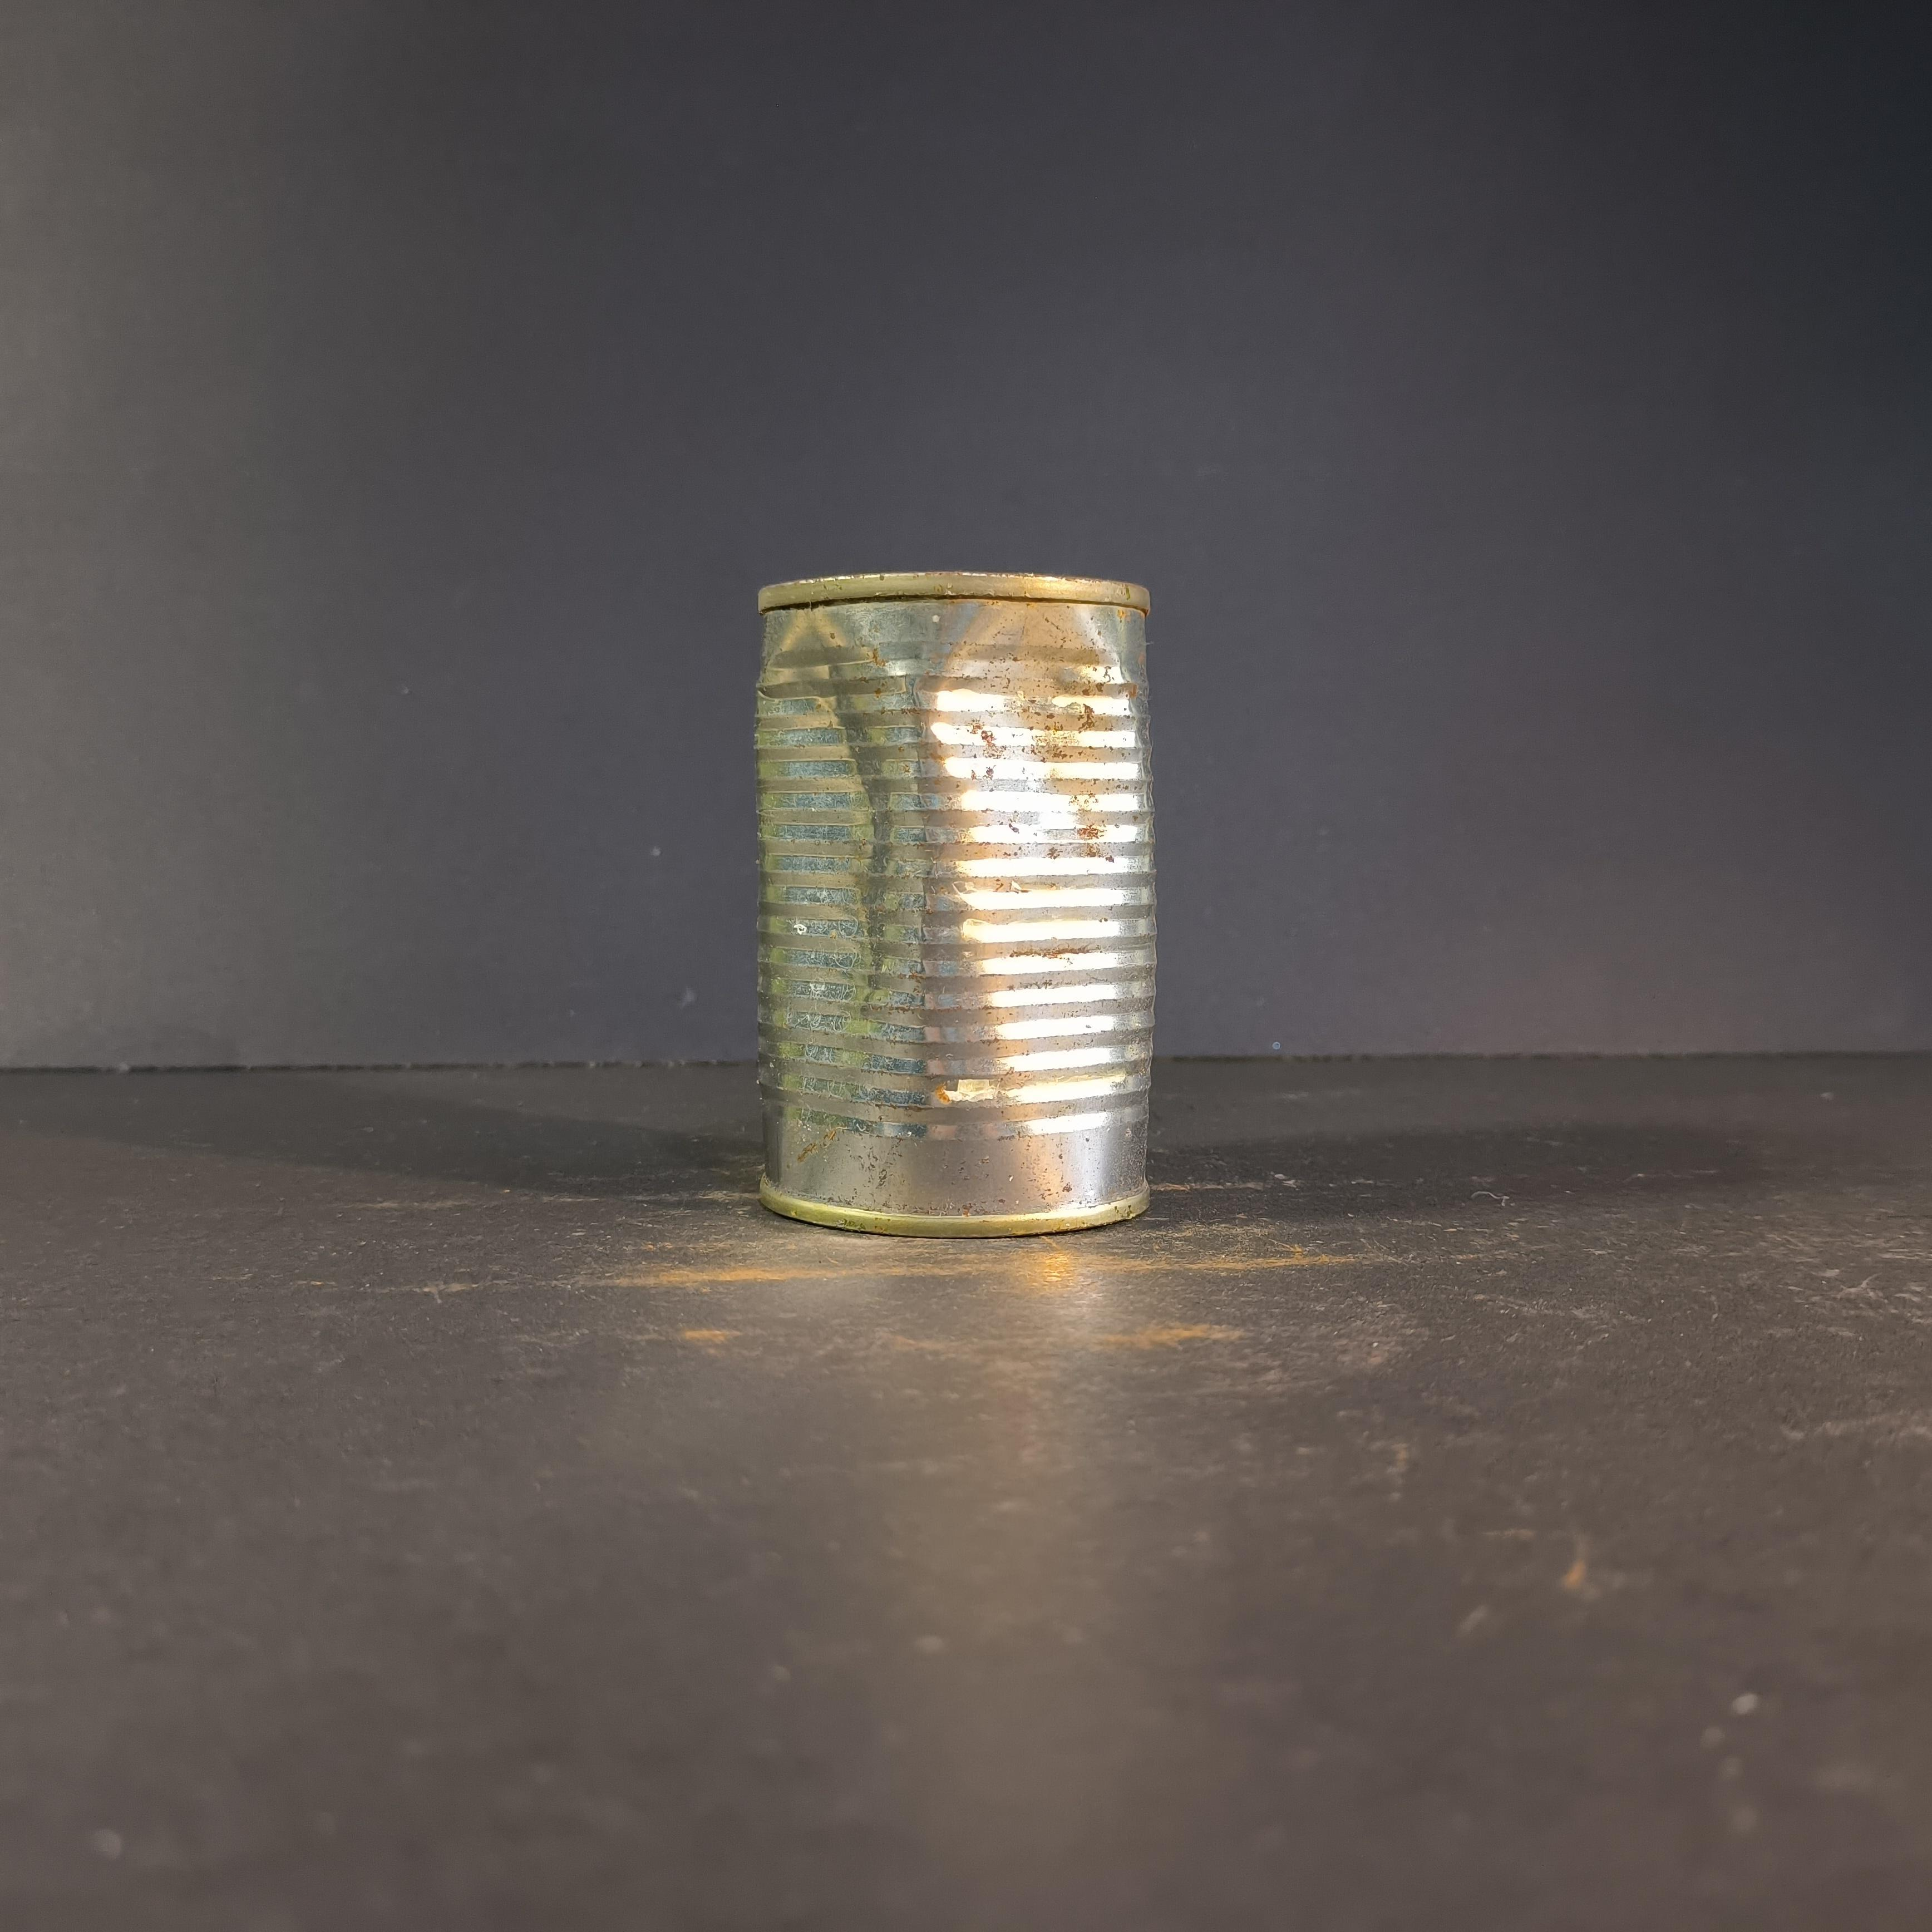Dented: (738, 557, 1177, 1244)
